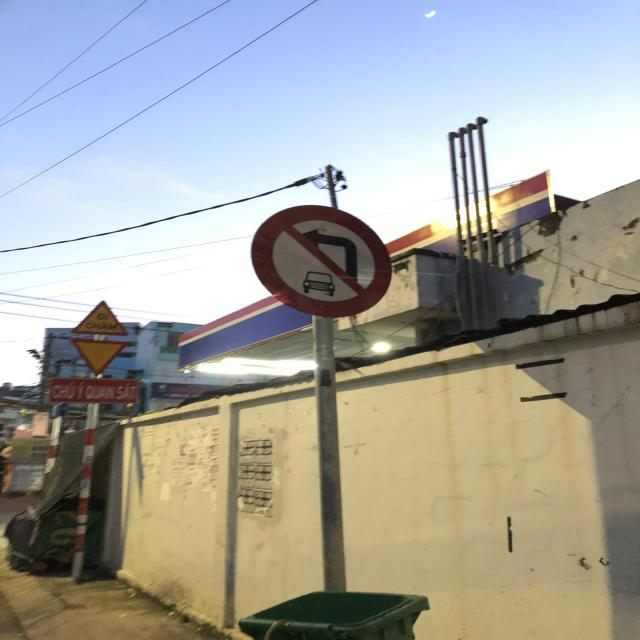Bien bao cam xe o to re trai: (242, 194, 397, 323)
Bien bao di cham: (69, 295, 136, 338)
Bien bao giao nhau voi duong uu tien: (62, 335, 130, 375)
